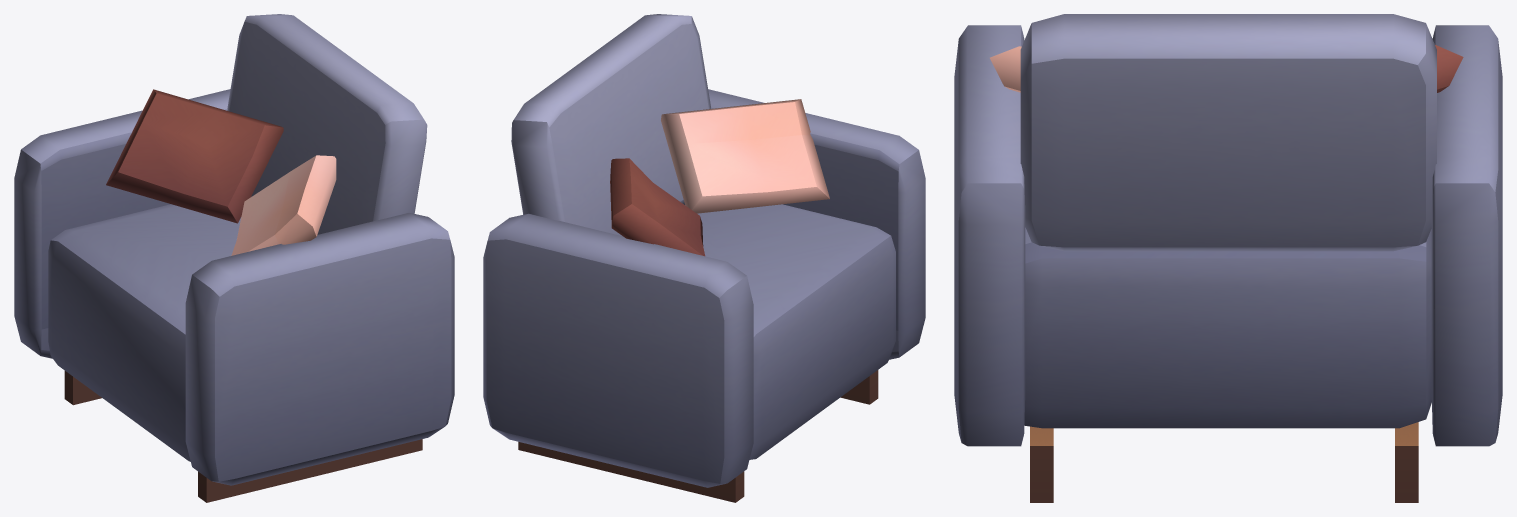
The model's file is M_sofa.FBX.
3 views of the same model, side by side, from view 1: azimuth 30°, elevation 25°; view 2: azimuth 150°, elevation 25°; view 3: azimuth 270°, elevation 25° (orthographic). The views are drawn at different scales.
Parts seen in each view (by area): view 1: Box025; view 2: Box025; view 3: Box025.
Part boxes in pixels (bbox=[...]): Box025: bbox=[14, 14, 454, 502]; Box025: bbox=[483, 14, 925, 502]; Box025: bbox=[954, 14, 1502, 502].
Size of the model in its own units: 70.3 by 97.8 by 92.35.
